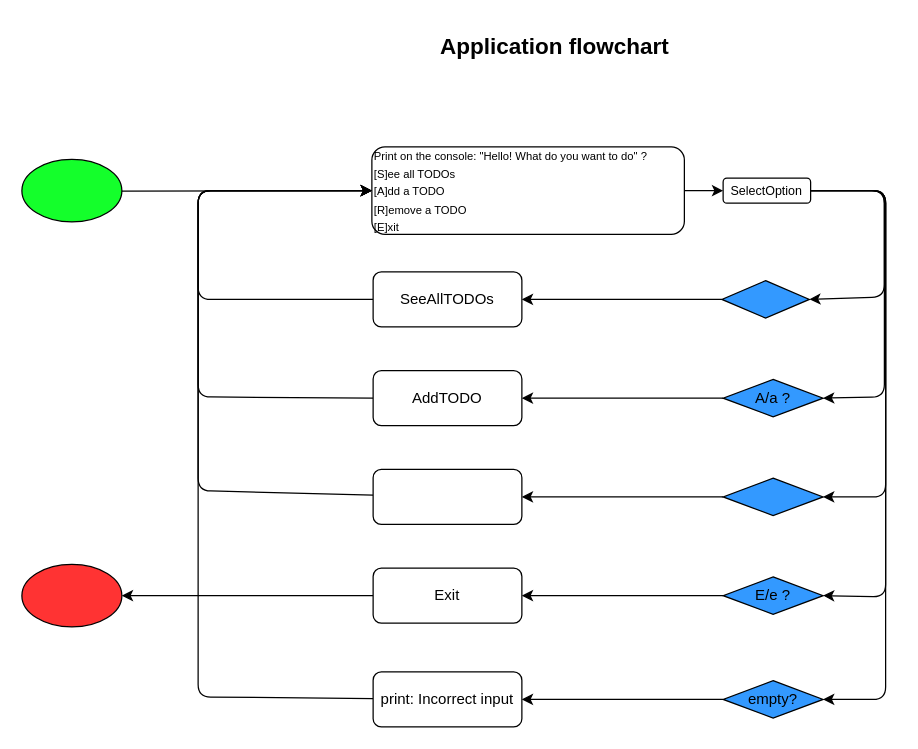
Some shapes in this 918 by 749 pixel diagram are drawn without their labels. The shapes that lost their labels are listed below. From the top down, each one's box as (x1, y1, x2, y2) in pixels, then its label:
(21, 158, 122, 222): Start
(721, 279, 809, 318): S/s ?
(372, 468, 522, 524): RemoveTODO
(722, 477, 823, 516): R/r ?
(21, 563, 122, 627): End
